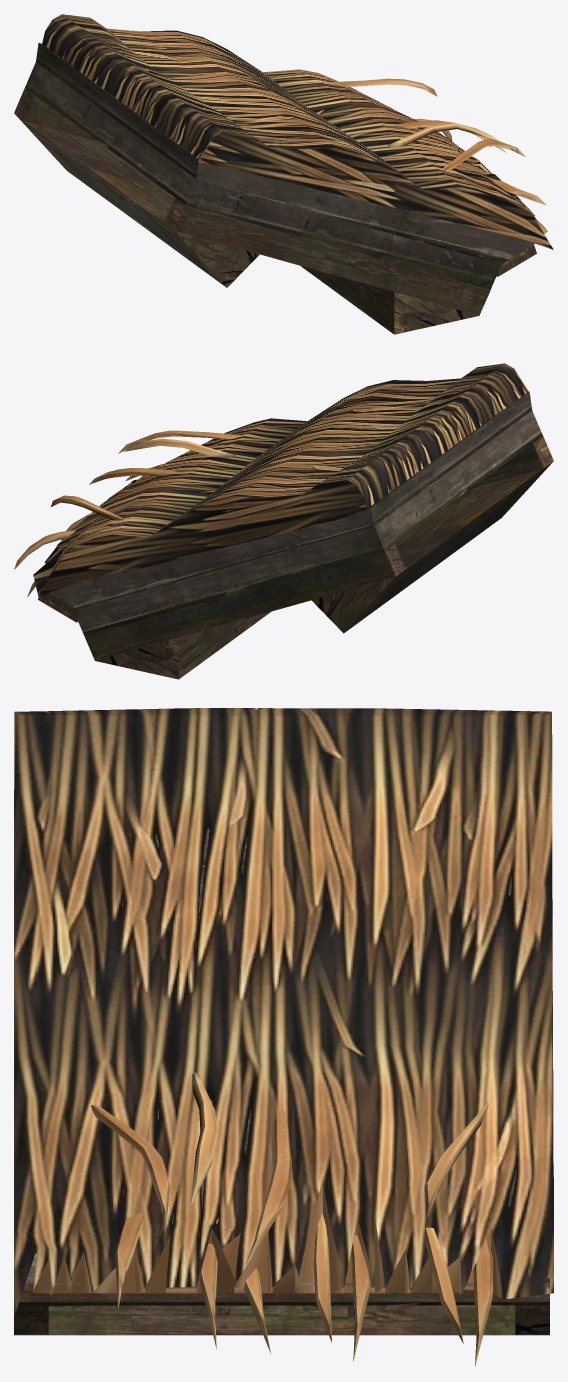
3 renders of one model, top to bottom at view 1: azimuth 30°, elevation 25°; view 2: azimuth 150°, elevation 25°; view 3: azimuth 270°, elevation 25°, orthographic. The views are drawn at different scales.
Visible parts, largest first — view 1: SM_BB_T1_Extended_Roof_Med_Shallow_LOD0; view 2: SM_BB_T1_Extended_Roof_Med_Shallow_LOD0; view 3: SM_BB_T1_Extended_Roof_Med_Shallow_LOD0.
Part boxes in pixels (x1=…): SM_BB_T1_Extended_Roof_Med_Shallow_LOD0: x1=14, y1=14, x2=553, y2=334; SM_BB_T1_Extended_Roof_Med_Shallow_LOD0: x1=14, y1=363, x2=553, y2=679; SM_BB_T1_Extended_Roof_Med_Shallow_LOD0: x1=14, y1=708, x2=553, y2=1366.
Bounding box in the file's own units: 2.23 × 1.27 × 1.51.
Materials: 3 (3 with a texture image).
